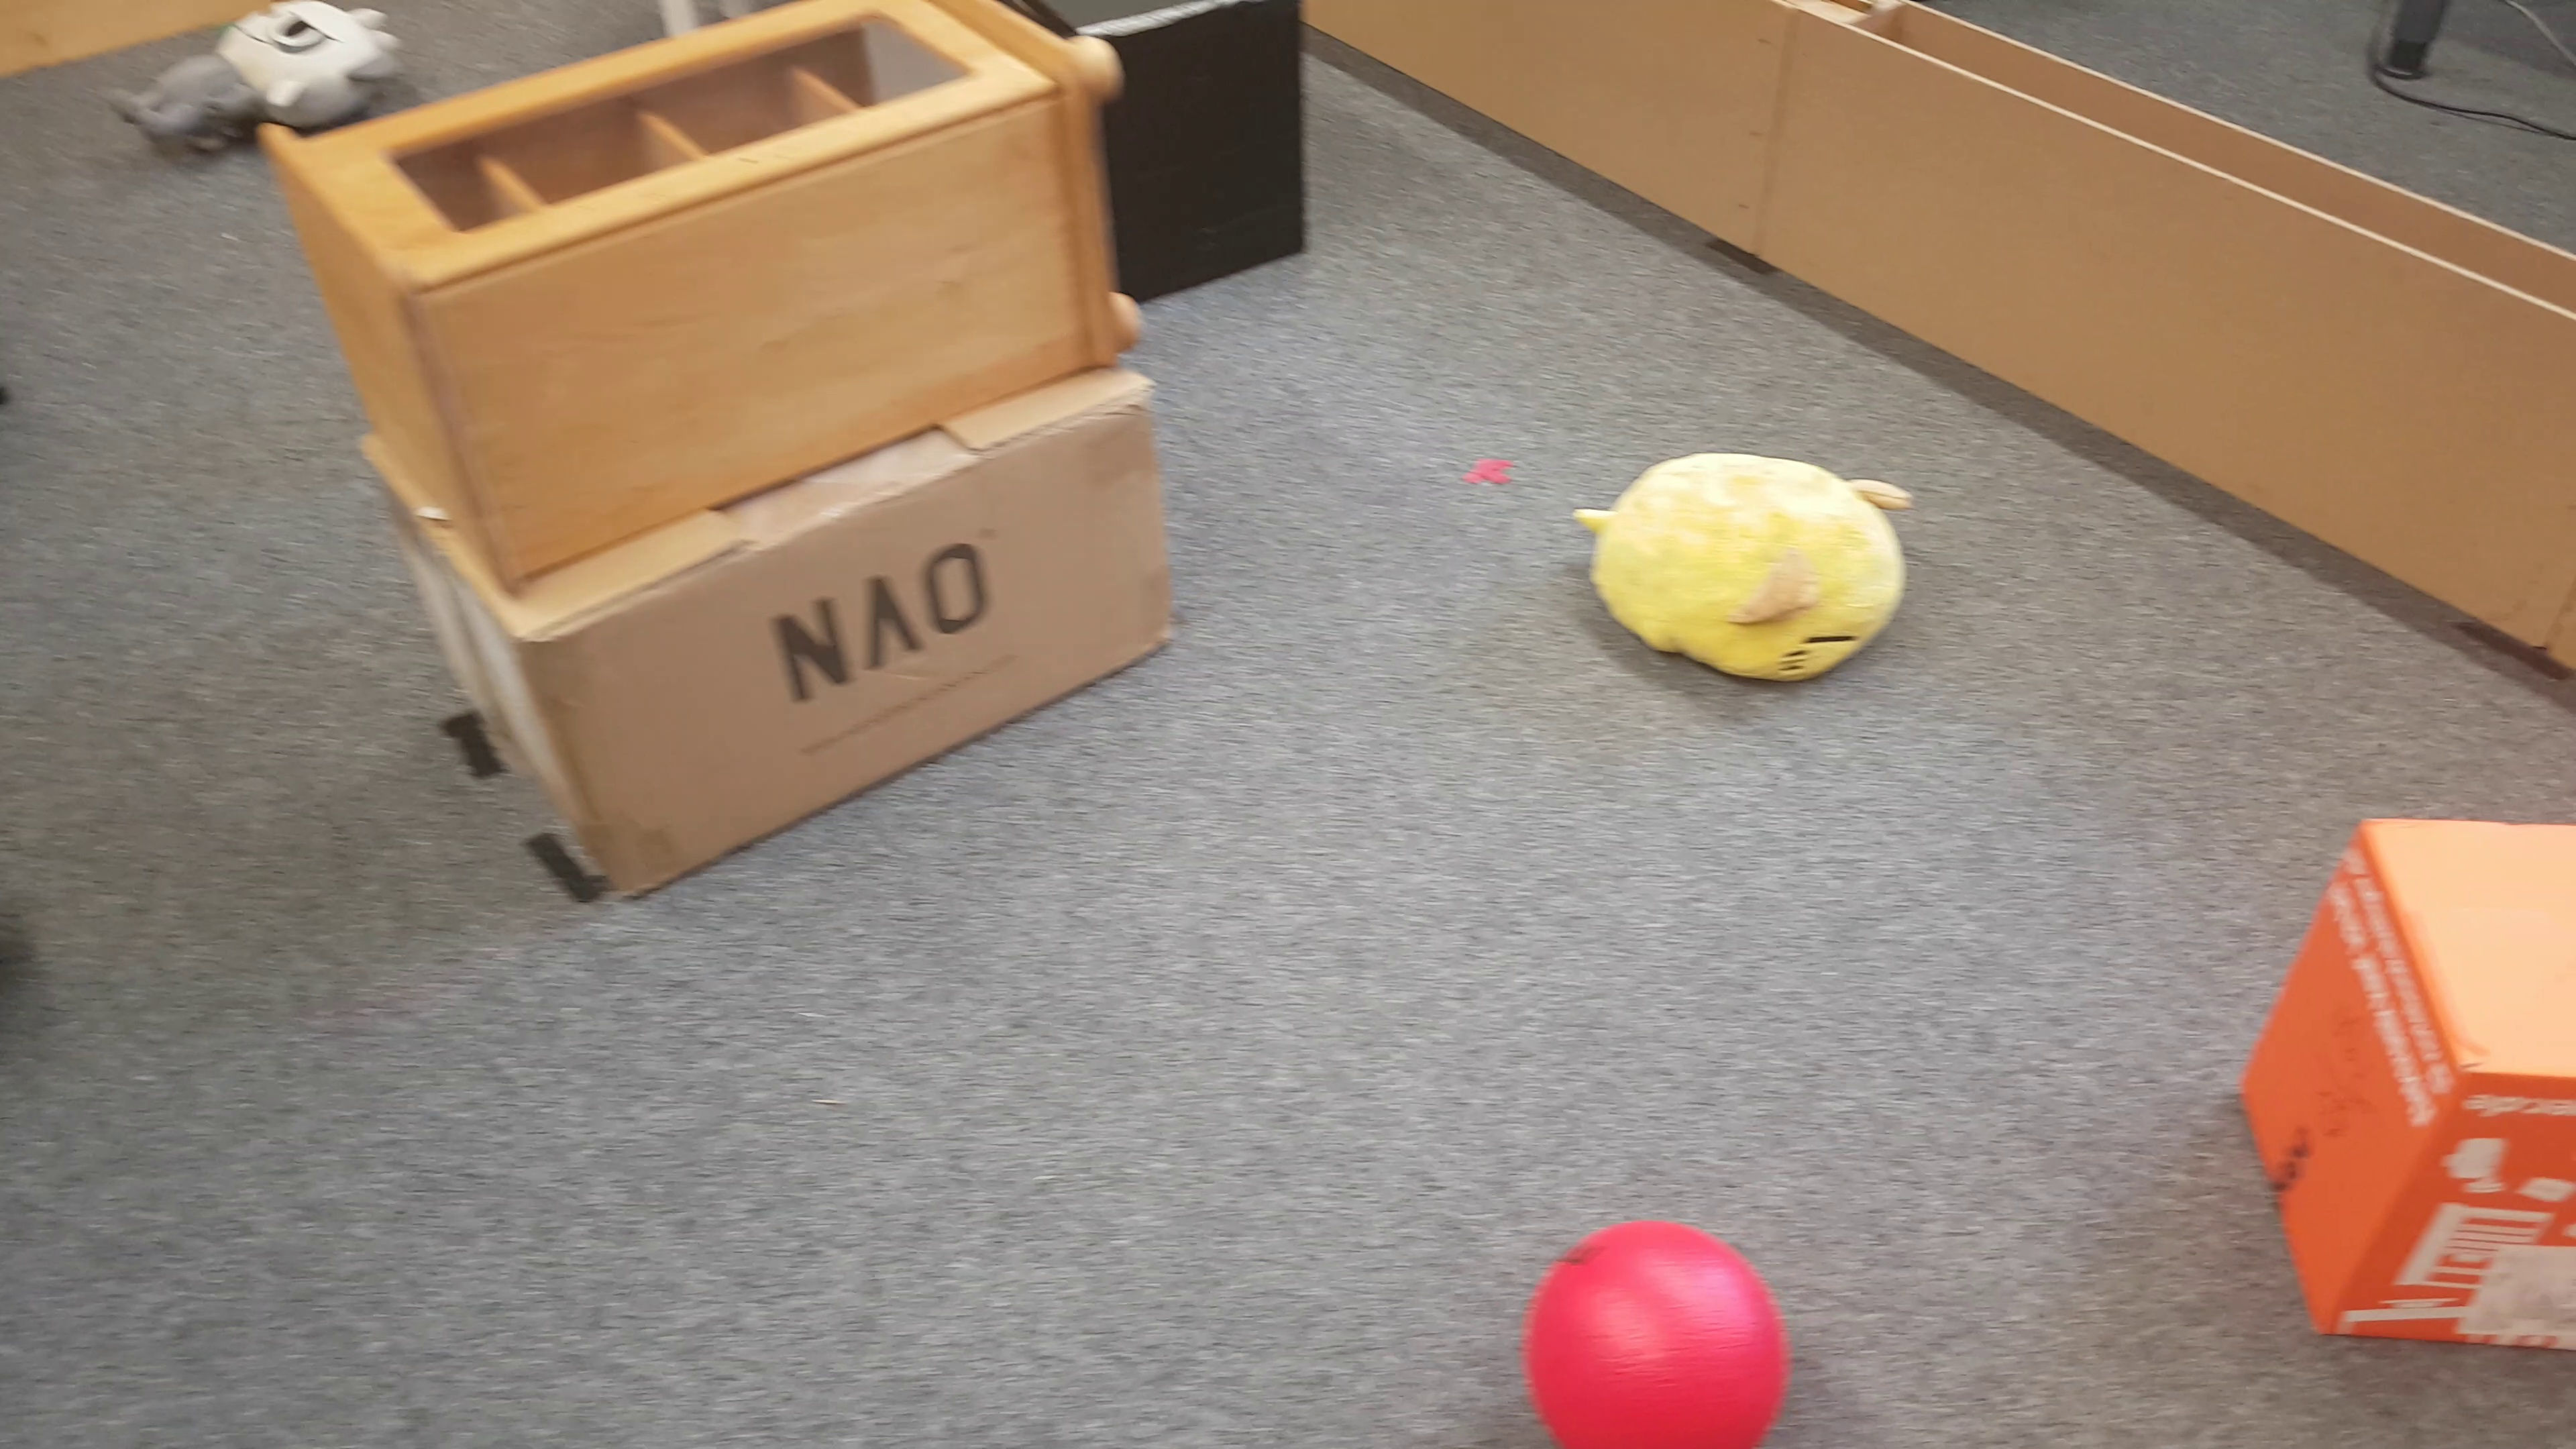grasp: (1580, 453, 1913, 699), (108, 4, 391, 119)
kick: (1520, 1221, 1789, 1449)
push: (2235, 809, 2576, 1352), (1131, 4, 1318, 295)
